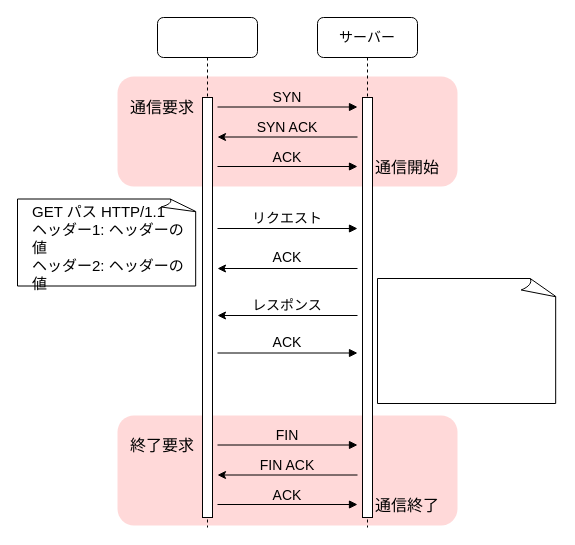
This 575x545 diagram has some shape labels left out. Each missing label, with the box of its shape:
HTTP/1.1 200 OK ヘッダー1: ヘッダーの値 ヘッダー2: ヘッダーの値 レスポンスボディ: (376, 278, 558, 404)
クライアント: (156, 16, 258, 528)
